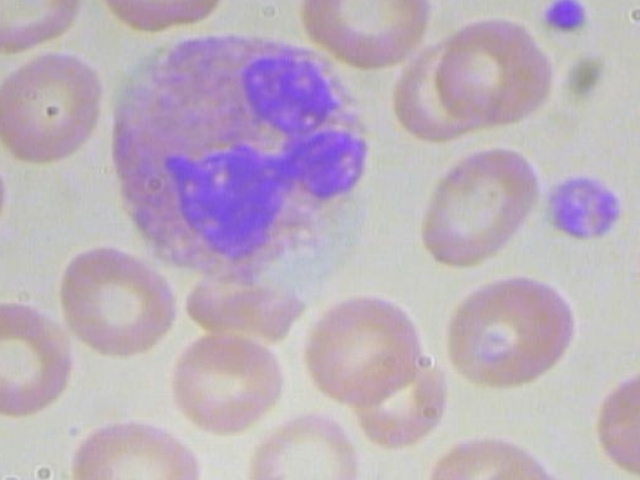Platelets: (540, 165, 640, 246), (538, 0, 597, 35)
RBC: (439, 273, 583, 397), (291, 282, 435, 406), (406, 142, 547, 268), (429, 6, 562, 132), (50, 236, 184, 357), (0, 47, 114, 173), (165, 325, 288, 434), (71, 405, 205, 480), (0, 297, 74, 417), (246, 406, 365, 480), (417, 427, 546, 480), (590, 364, 640, 480)
WBC: (91, 31, 380, 286)
